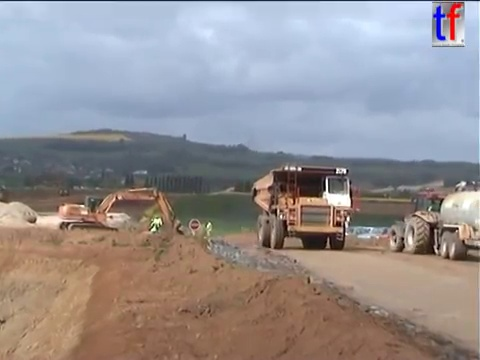excavator: (56, 185, 188, 241)
truck: (249, 162, 357, 252), (386, 188, 480, 263), (57, 185, 69, 197), (1, 190, 7, 205)
worker: (202, 218, 215, 241), (148, 218, 159, 239), (153, 214, 164, 234)
